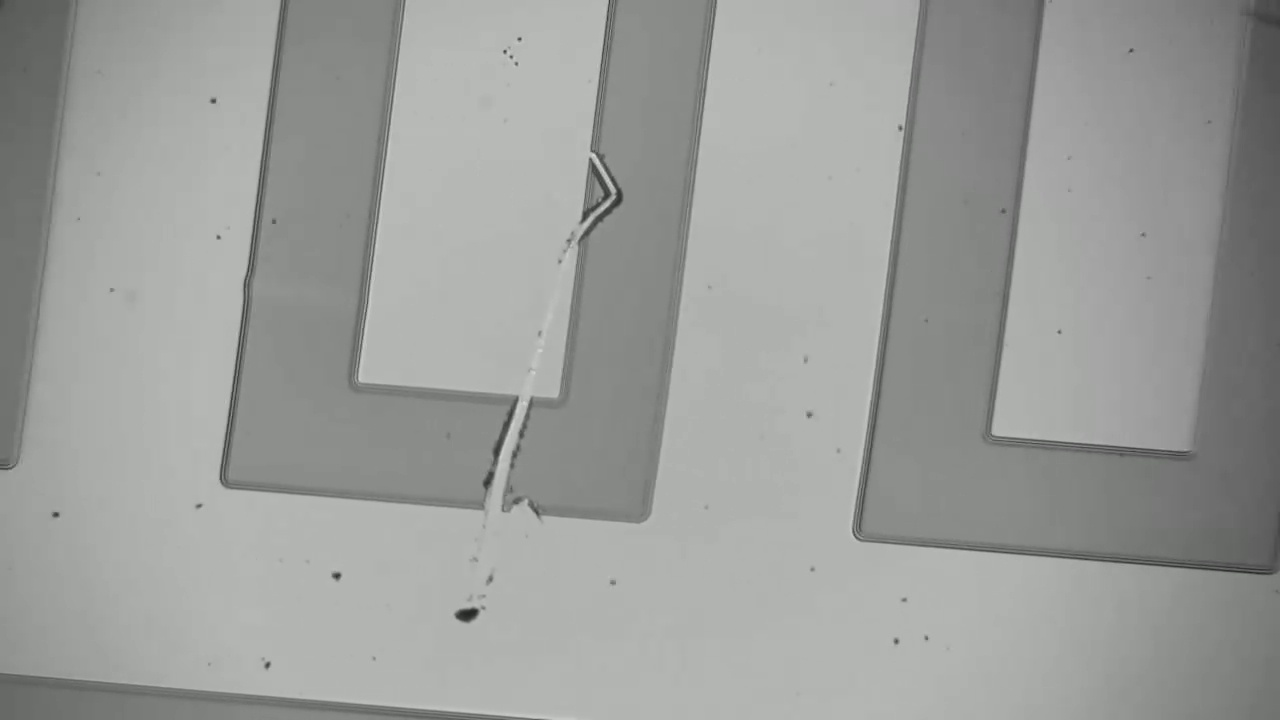Short_circuit: (448, 375, 543, 542)
